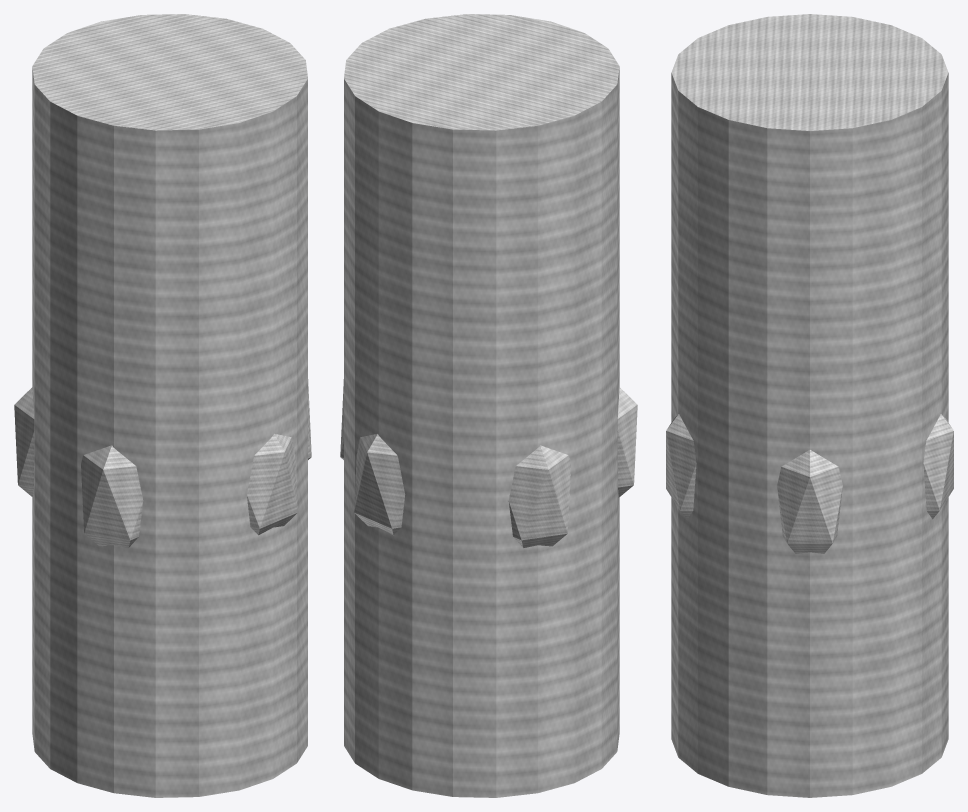
The model's file is flora-wood_variant_c.glb.
3 renders of one model, left to right at view 1: azimuth 30°, elevation 25°; view 2: azimuth 150°, elevation 25°; view 3: azimuth 270°, elevation 25°, orthographic.
Parts seen in each view (by area): view 1: Wood trunk.002, Bark knot.014, Bark knot.015, Bark knot.013; view 2: Wood trunk.002, Bark knot.013, Bark knot.012, Bark knot.014; view 3: Wood trunk.002, Bark knot.011, Bark knot.012, Bark knot.015.
Boxes of the visible parts, x1=… form: Wood trunk.002: x1=32, y1=14, x2=307, y2=797; Bark knot.014: x1=81, y1=445, x2=143, y2=547; Bark knot.015: x1=246, y1=433, x2=297, y2=535; Bark knot.013: x1=14, y1=387, x2=34, y2=497; Wood trunk.002: x1=344, y1=14, x2=619, y2=797; Bark knot.013: x1=508, y1=445, x2=570, y2=547; Bark knot.012: x1=354, y1=433, x2=405, y2=535; Bark knot.014: x1=617, y1=387, x2=637, y2=497; Wood trunk.002: x1=671, y1=14, x2=948, y2=797; Bark knot.011: x1=777, y1=450, x2=842, y2=553; Bark knot.012: x1=923, y1=414, x2=953, y2=519; Bark knot.015: x1=666, y1=414, x2=696, y2=519.
Size of what is drawn, in the model's own units: 0.6873 by 1.7 by 0.6647.
Materials: 2 (2 with a texture image).
